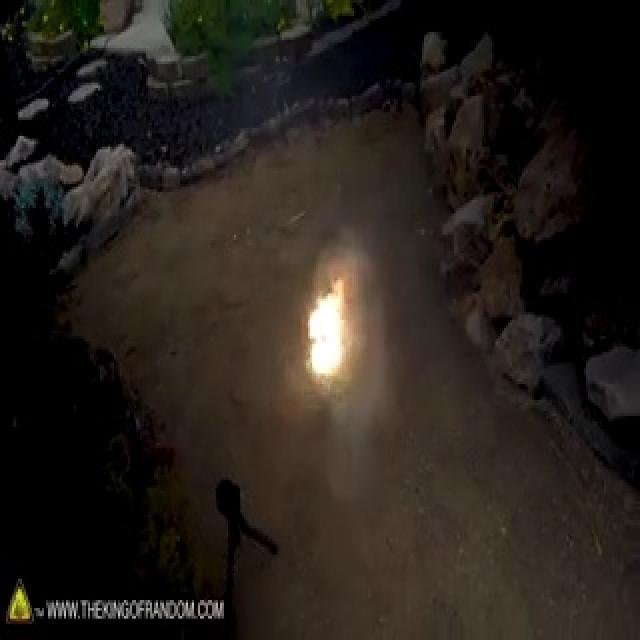fire: (296, 271, 350, 394)
